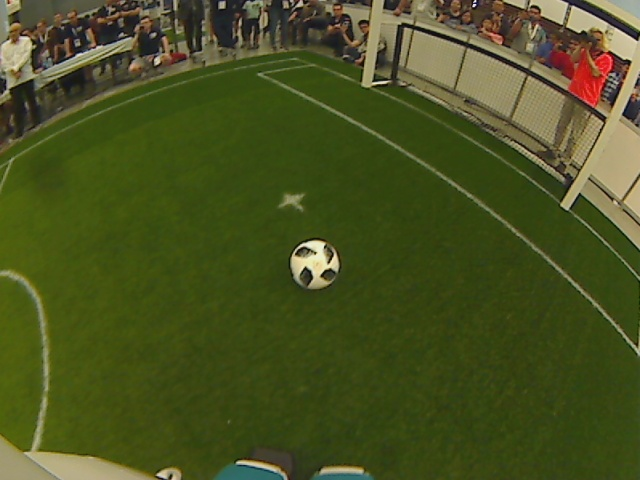ball: (288, 238, 340, 290)
